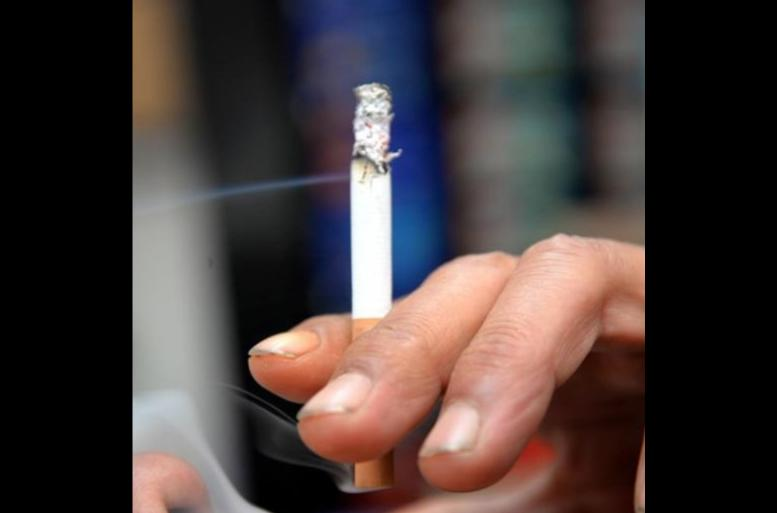Cigarette: (348, 81, 398, 494)
Smoke: (132, 383, 359, 513)
